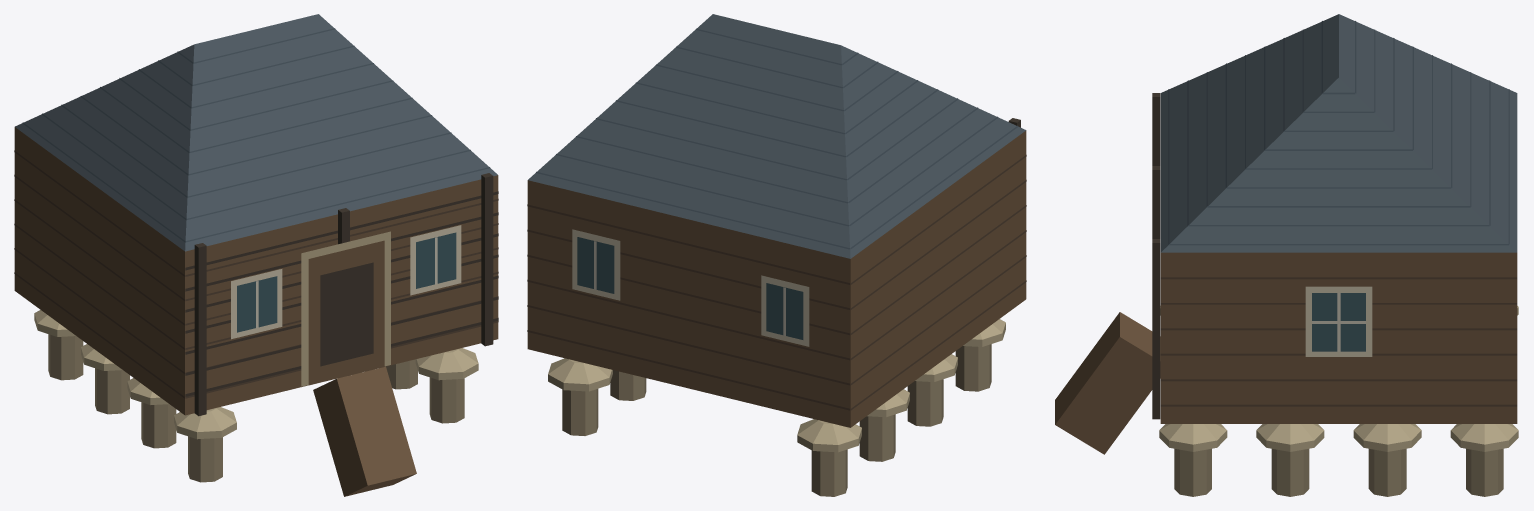
The model's file is 01-staddle-granary.glb.
3 views of the same model, side by side, from view 1: azimuth 30°, elevation 25°; view 2: azimuth 150°, elevation 25°; view 3: azimuth 270°, elevation 25° (orthographic). The views are drawn at different scales.
Parts seen in each view (by area): view 1: Staddle-stone granary; view 2: Staddle-stone granary; view 3: Staddle-stone granary.
Part boxes in pixels (x1,y1,x2,y2): Staddle-stone granary: (14,14,498,496); Staddle-stone granary: (527,14,1026,496); Staddle-stone granary: (1055,14,1518,496).
Bounding box in the file's own units: 0.7057 × 0.8105 × 0.8608.
